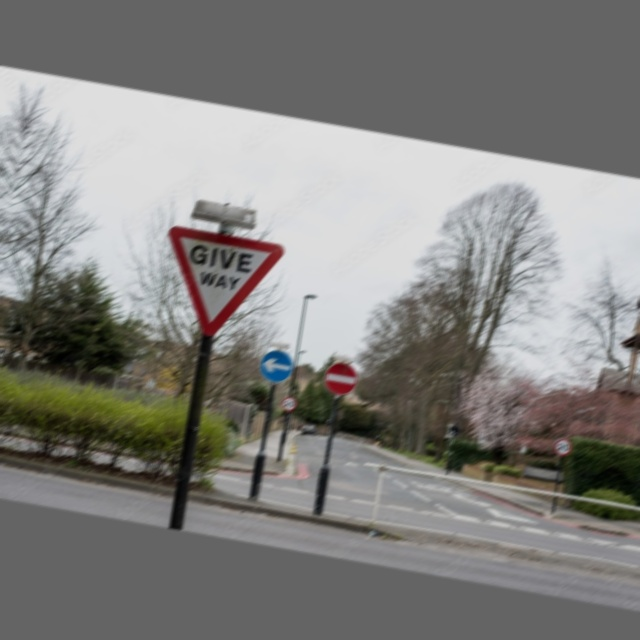Give_Way: (152, 224, 285, 345)
